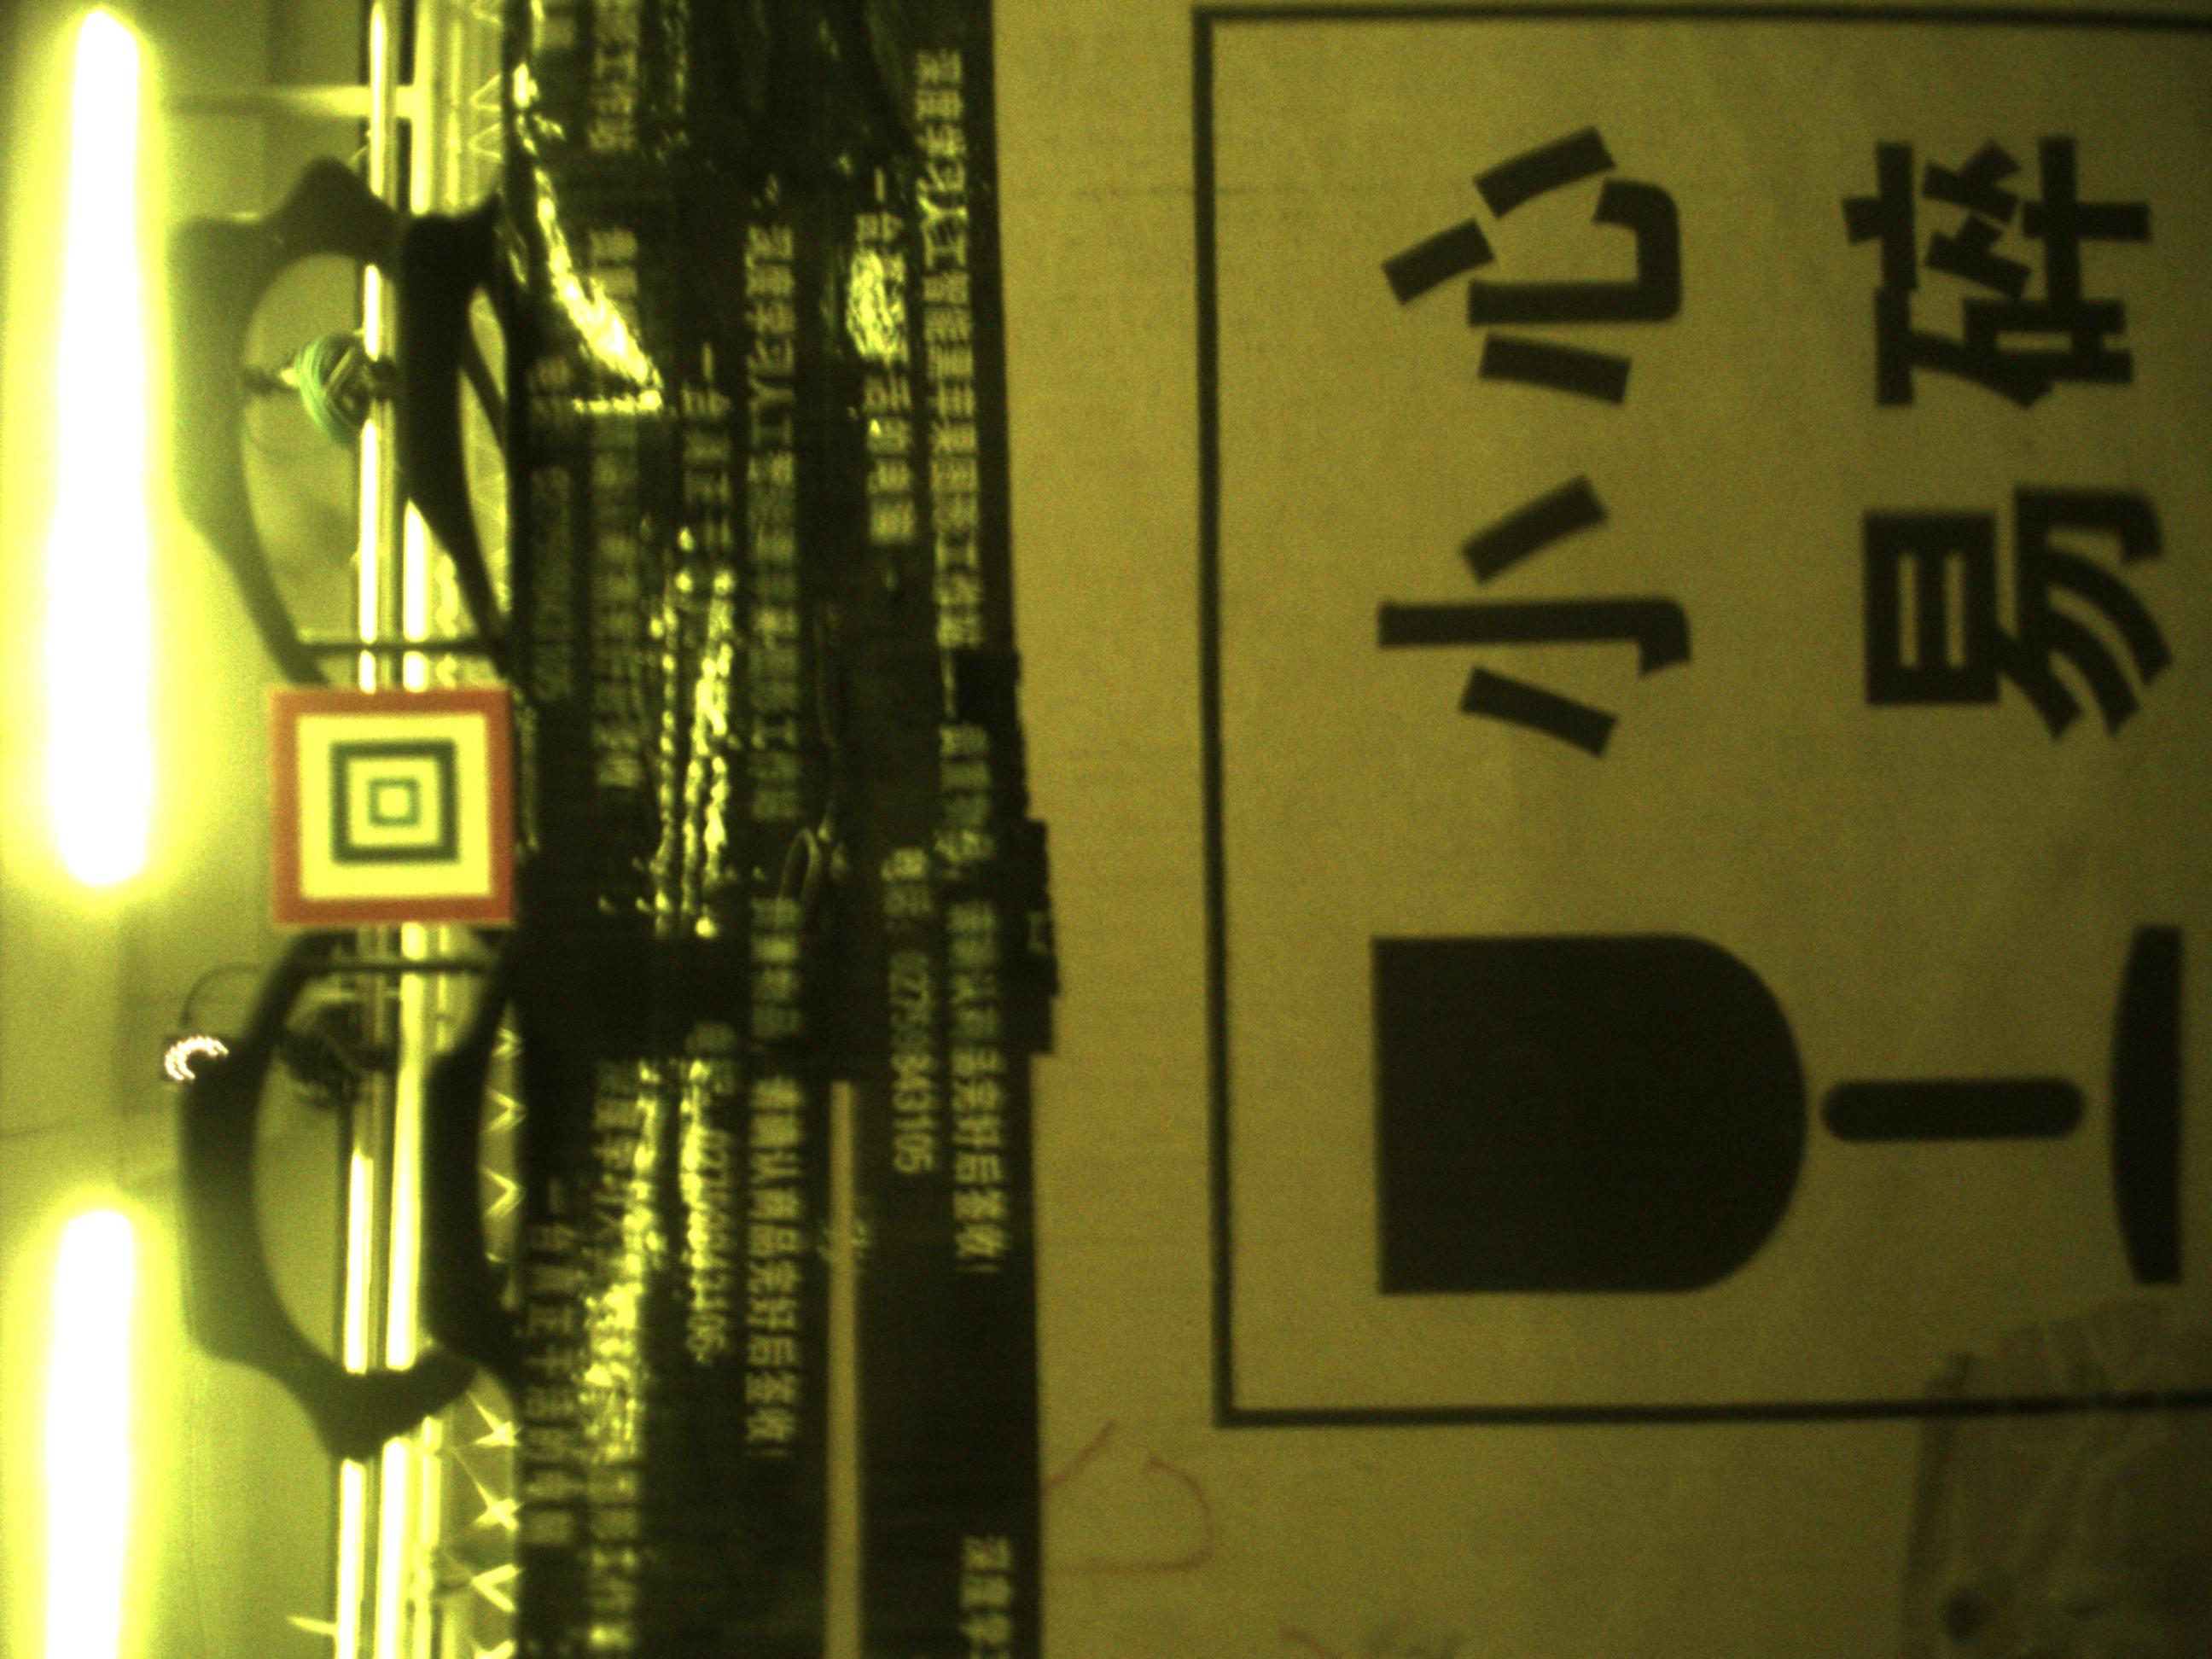outline: (268, 688, 514, 929)
